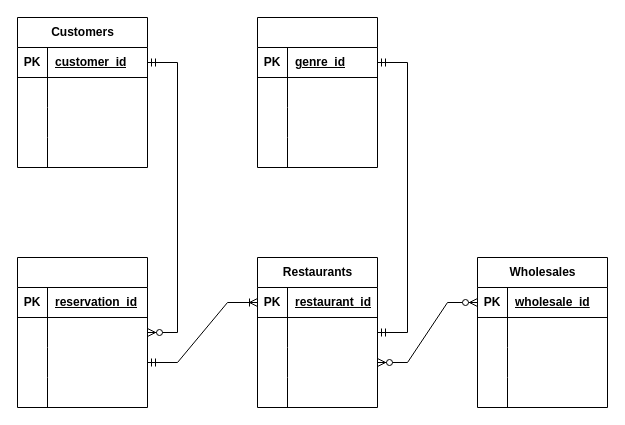
Image size: 625x425. Some labels were removed from this diagram. Here are the shapes that lost their labels. From the top down, the box of each, then its label:
(256, 16, 378, 168): Genres
(16, 256, 148, 408): Reservations
